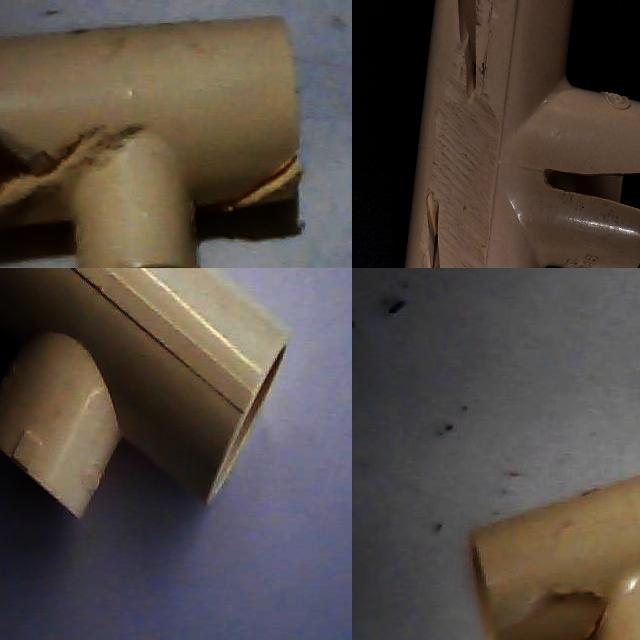Defective: (0, 80, 73, 238), (197, 146, 310, 234), (494, 578, 610, 640), (396, 124, 444, 268)
T Joint: (0, 16, 301, 268), (352, 106, 566, 268), (470, 475, 640, 640)
